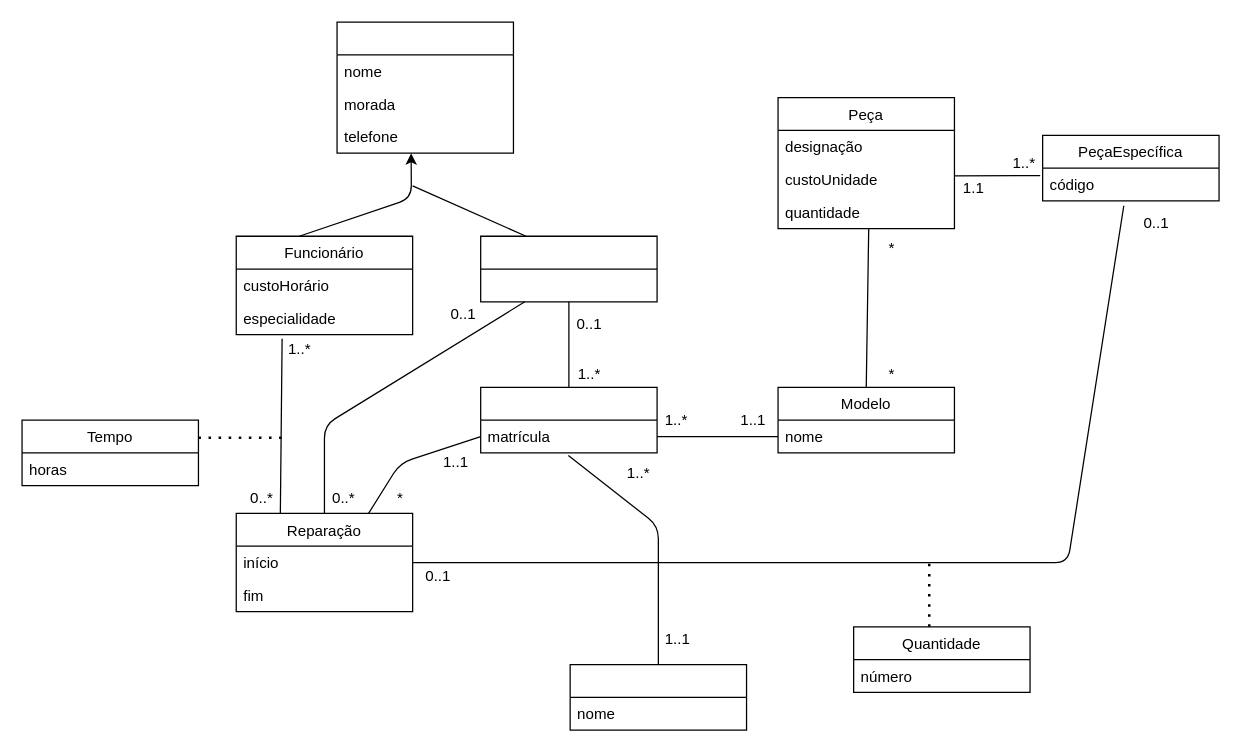
This 1241x756 diagram has some shape labels left out. Here are the shapes that lost their labels. From the top down, the box of each, then its label:
(336, 21, 513, 153): Pessoa
(479, 235, 657, 302): Cliente
(479, 386, 657, 453): Car
(569, 663, 747, 730): Marca
